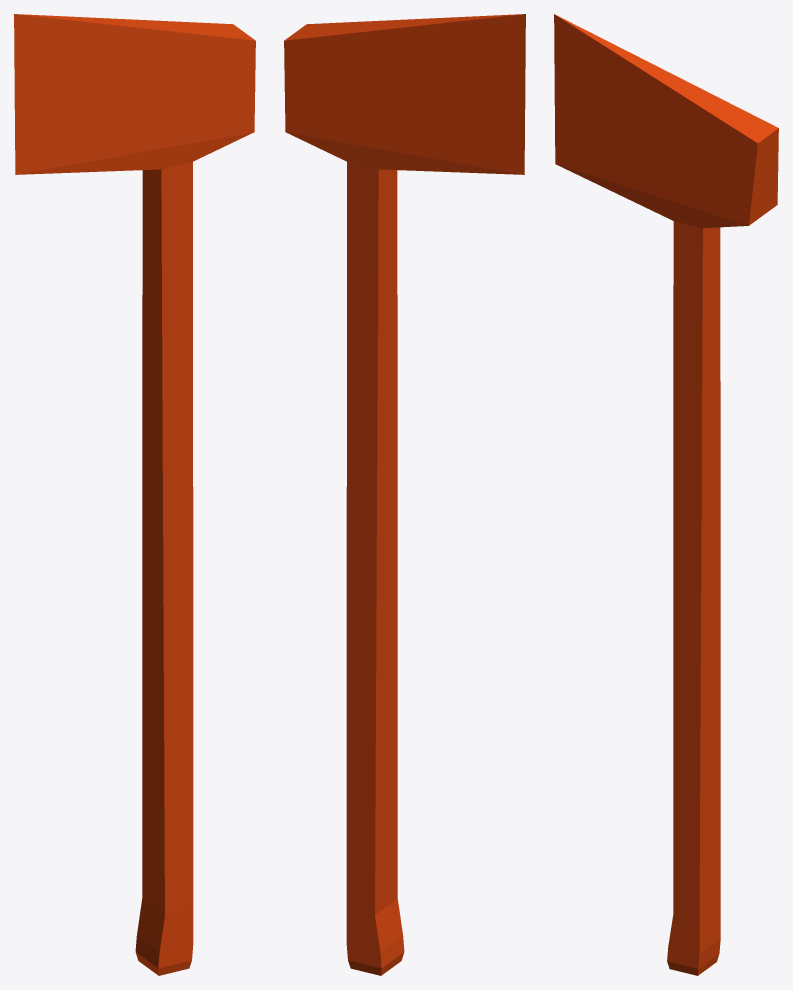
File: Axe.glb
3 renders of one model, left to right at view 1: azimuth 30°, elevation 25°; view 2: azimuth 150°, elevation 25°; view 3: azimuth 330°, elevation 25°, orthographic. The views are drawn at different scales.
Parts seen in each view (by area): view 1: Cube; view 2: Cube; view 3: Cube.
Part boxes in pixels (left/top/right/bottom): Cube: left=14, top=14, right=255, bottom=975; Cube: left=284, top=14, right=525, bottom=975; Cube: left=554, top=14, right=778, bottom=975.
Bounding box in the file's own units: 0.4862 × 1.99 × 0.1129.
